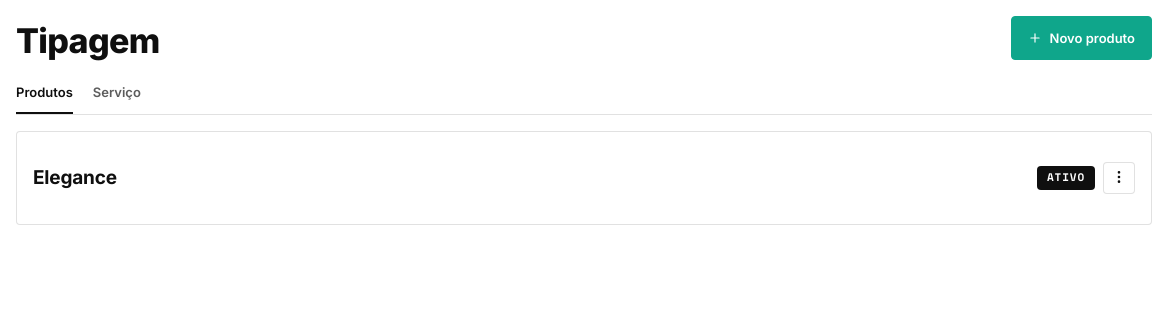
Tipagem › esconde as ações da linha de serviço no menu ⋮, não como links
Click the button "Serviço" at (117, 93), box [93,72,141,114]
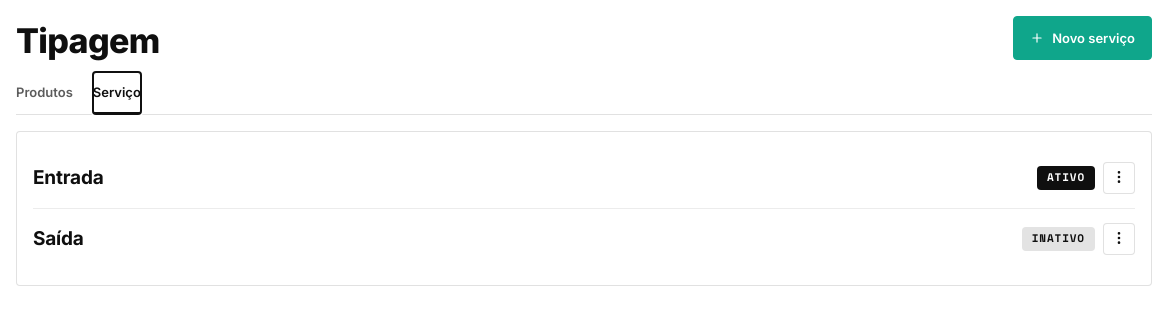
Check: the button "Renomear" is not shown
Check: the button "Desativar" is not shown
Click the button named "Ações de Entrada" at (1119, 178), box [1103,162,1135,194]
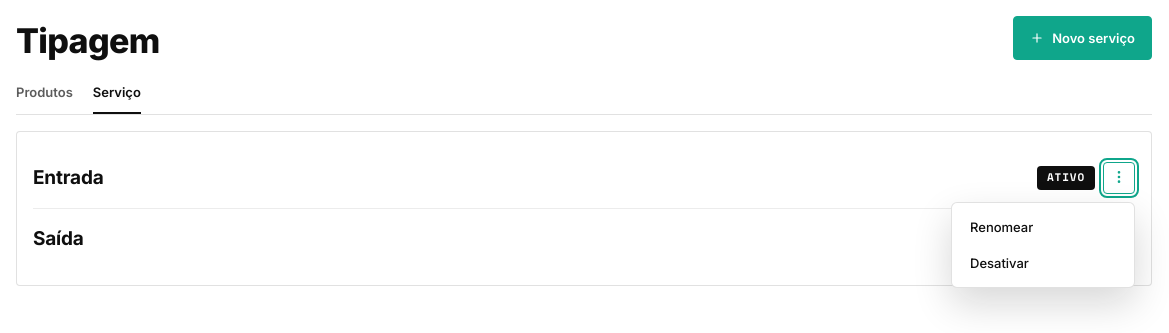
Check: the menu item "Renomear" is shown, box [958,209,1128,245]
Check: the menu item "Desativar" is shown, box [958,245,1128,281]
